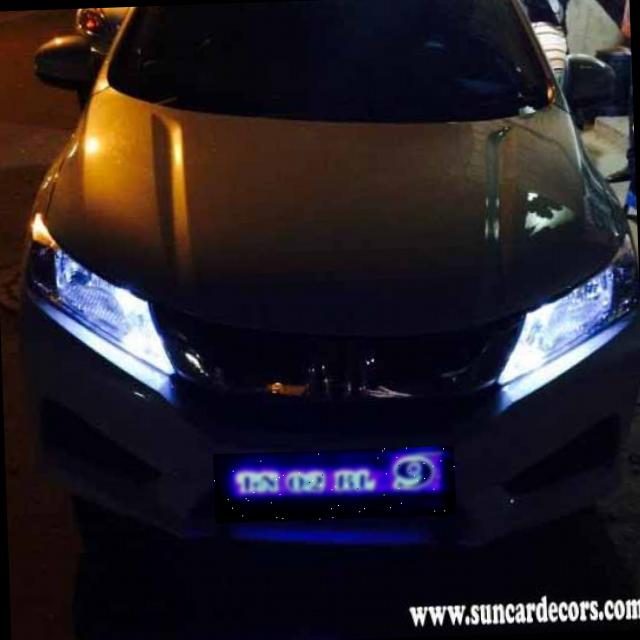Plate: (214, 447, 457, 524)
